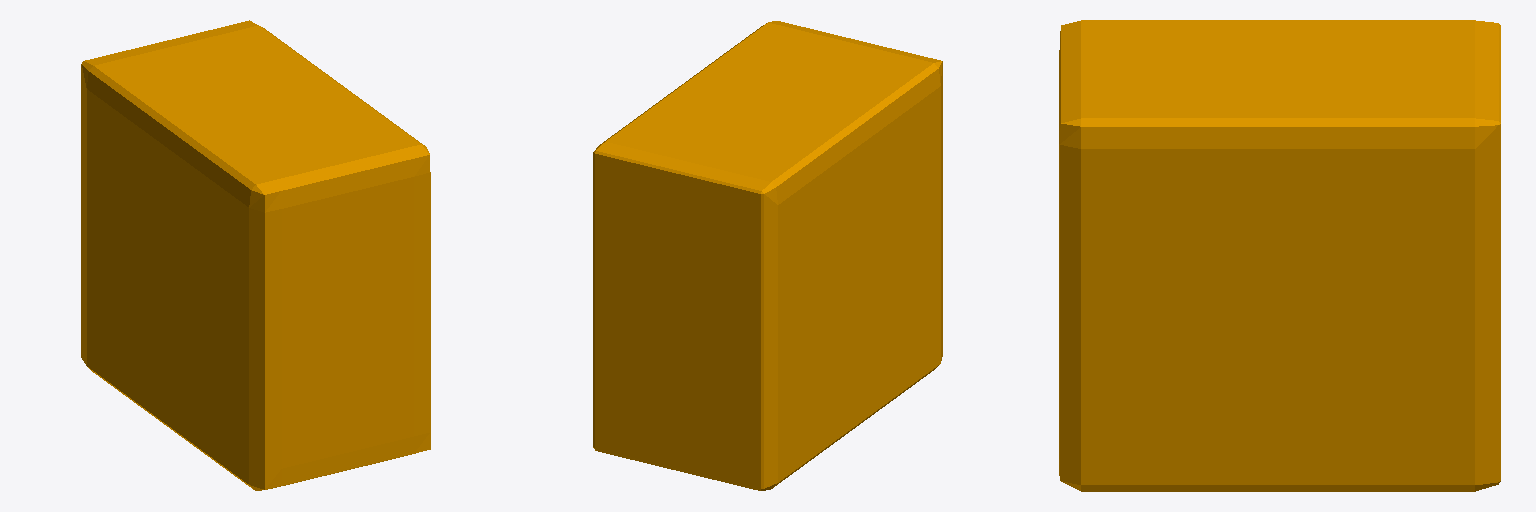
The robot description file, URDF, robot "cylinder_box_47":
<?xml version="1.0" encoding="utf-8"?>  <robot name="cylinder_box_47">   <link name="cylinder_box_47">     <visual>       <geometry>         <mesh filename="../meshes/box/box_47.stl" scale="1 1 1"/>       </geometry>     </visual>     <collision>       <geometry>         <mesh filename="../meshes/box/box_47.stl" scale="1 1 1"/>       </geometry>     </collision>     <inertial>        <origin         xyz="0 0 0"         rpy="0 0 0" />       <mass value="0.45787755986714807"/>       <origin rpy="0 0 0" xyz="0 0 0"/>       <inertia ixx="0.0006422228556757232" ixy="1.1266395124680724e-08" ixz="1.1733660960778792e-07" iyy="0.0004107252165343908" iyz="-9.886421821089306e-08" izz="0.00045518058981930447"/>     </inertial>   </link>  </robot>

--- Render facts (derived) ---
3 views of the same robot in one strip: view 1: azimuth 30°, elevation 25°; view 2: azimuth 150°, elevation 25°; view 3: azimuth 270°, elevation 25° (orthographic).
Robot: cylinder_box_47 — 1 links, 0 joints (none); root link cylinder_box_47; default pose: all joints at 0.
Visible links, largest first — view 1: cylinder_box_47; view 2: cylinder_box_47; view 3: cylinder_box_47.
Link boxes in pixels (box(x1,y1,x2,y2)): cylinder_box_47: box(81, 20, 430, 490); cylinder_box_47: box(593, 21, 942, 490); cylinder_box_47: box(1059, 20, 1500, 491).
Bounding box of the posed robot: 0.0545 × 0.0954 × 0.0889 m (x, y, z).
1 mesh visuals loaded from 1 distinct referenced files (1 binary STL).